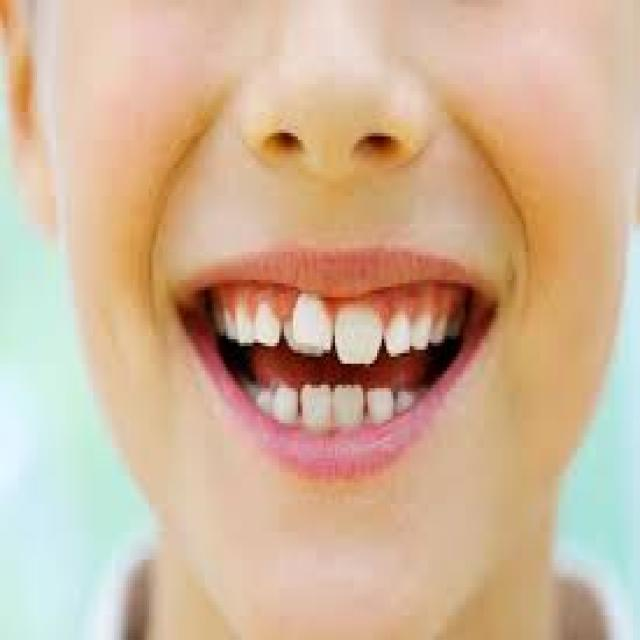tooth: (342, 311, 377, 360), (296, 297, 328, 350), (389, 308, 414, 360), (303, 381, 328, 427), (275, 381, 293, 430), (340, 388, 361, 430), (258, 300, 277, 342), (370, 392, 389, 426), (240, 308, 253, 339)
